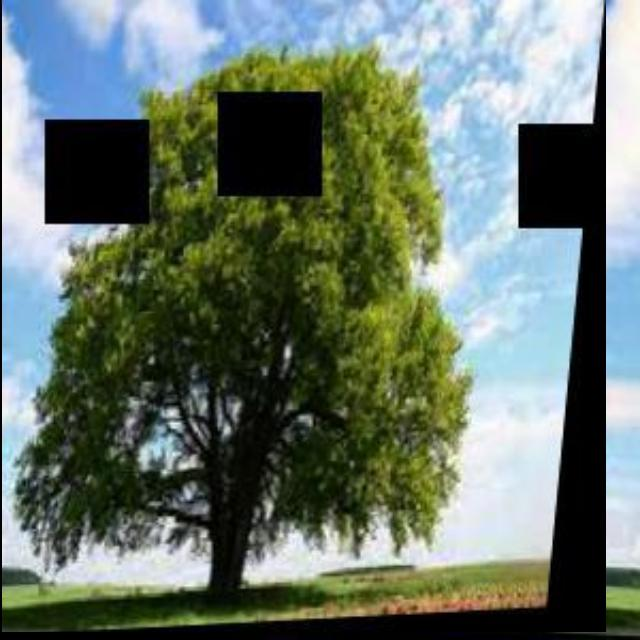tree: (2, 0, 606, 632)
